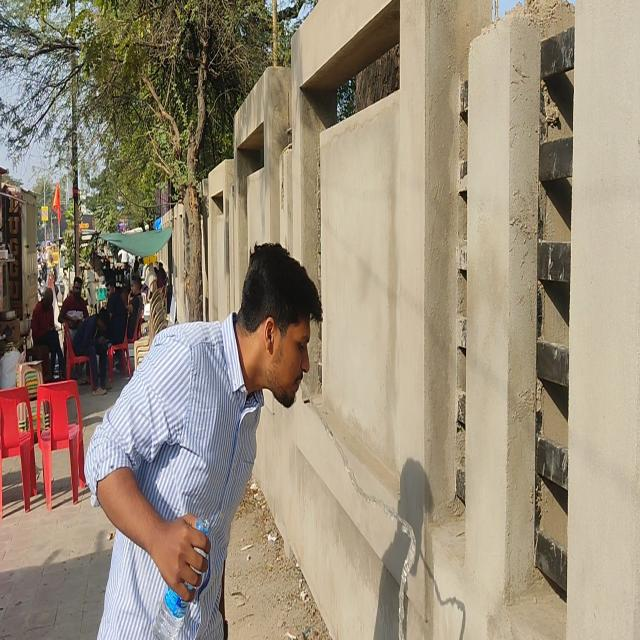spit: (244, 258, 436, 640)
